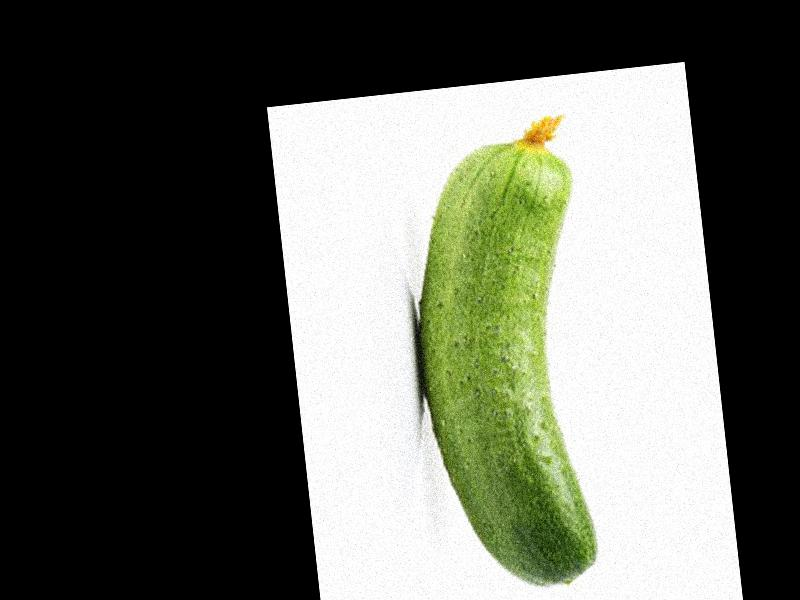Cucumber: (393, 109, 617, 599)
